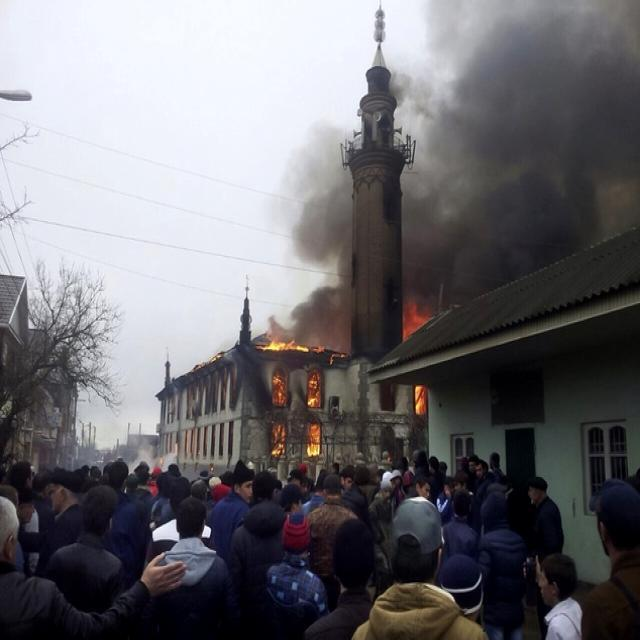Fire: (266, 334, 322, 442)
Smoke: (324, 0, 639, 331)
